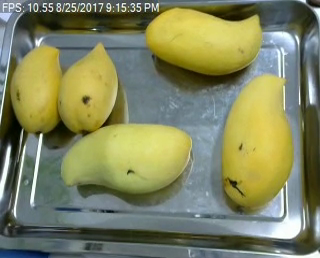Mango: (61, 120, 192, 197), (221, 75, 294, 208), (146, 7, 265, 75), (53, 42, 117, 131), (8, 44, 61, 134)
